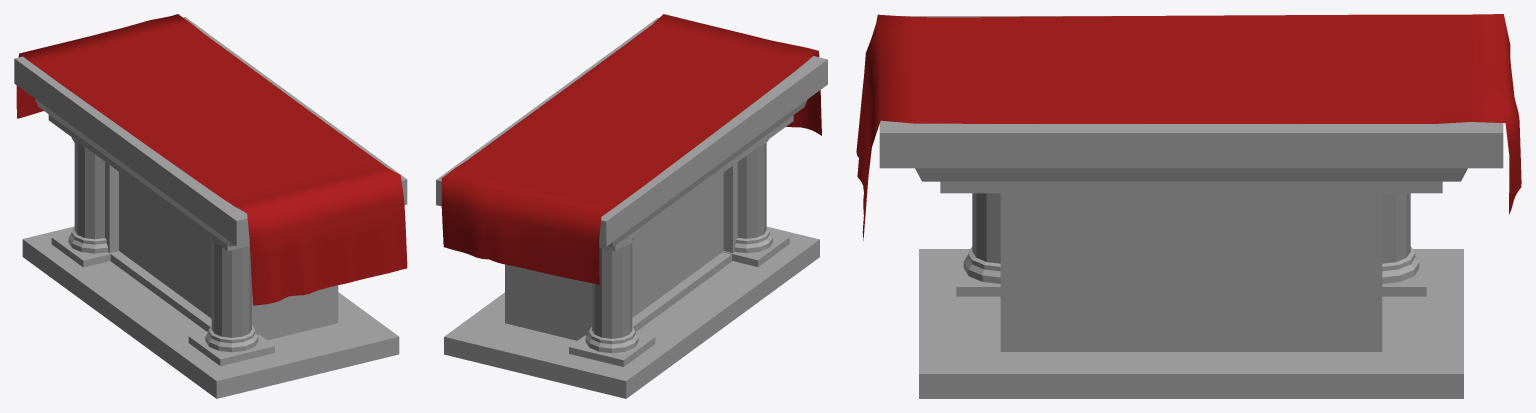
Rendered from Altare.fbx.
The picture shows the model from 3 angles, left to right: view 1: azimuth 30°, elevation 25°; view 2: azimuth 150°, elevation 25°; view 3: azimuth 270°, elevation 25°; orthographic projection. The views are drawn at different scales.
Visible parts, largest first — view 1: AltareMedDuk; view 2: AltareMedDuk; view 3: AltareMedDuk.
Part boxes in pixels (left/top/right/bottom): AltareMedDuk: left=14, top=14, right=407, bottom=398; AltareMedDuk: left=436, top=14, right=827, bottom=398; AltareMedDuk: left=856, top=14, right=1521, bottom=398.
Size of the model in its own units: 0.0177 by 0.0178 by 0.0397.
